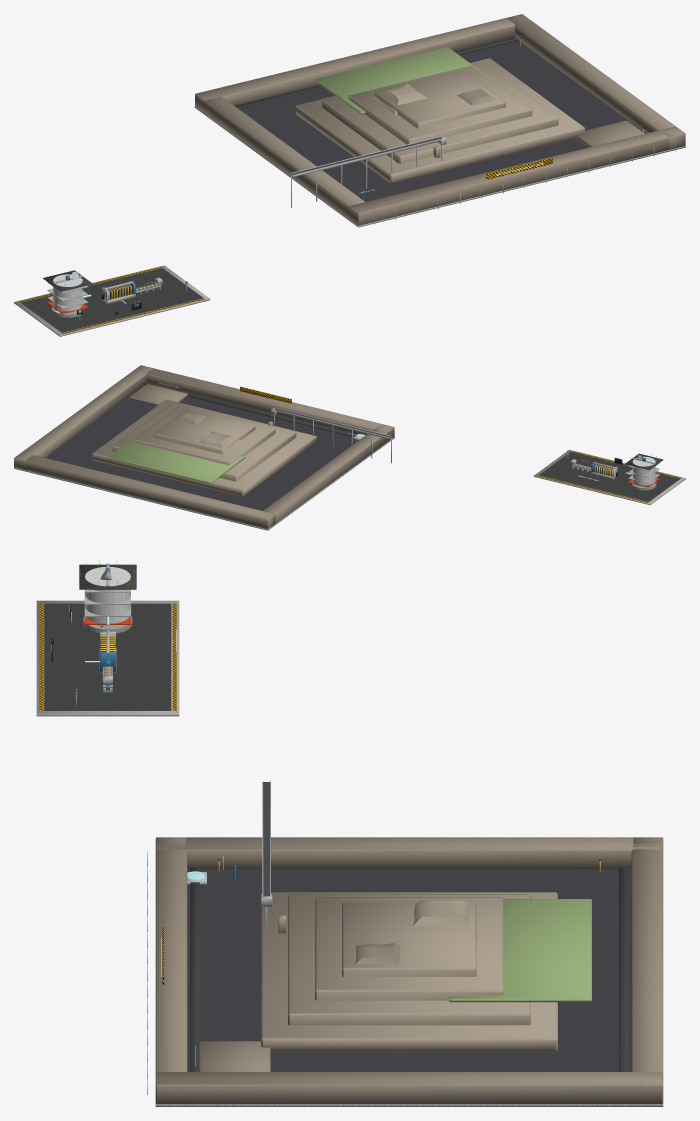
File: Tailing_DryStack_IndustrialUV_v2.fbx
3 views of the same model, one above another, from view 1: azimuth 30°, elevation 25°; view 2: azimuth 150°, elevation 25°; view 3: azimuth 270°, elevation 25° (orthographic). The views are drawn at different scales.
Visible parts, largest first — view 1: GDS_Geomembrane, GDS_Berm_S, DryStack_Pile_00, GDS_Berm_N, DryStack_Pile_01, GDS_Berm_E, GDS_Berm_W, GMC_PadEpoxy, DryStack_Pile_02, DryStack_SafeCover, DryStack_Pile_03, GMC_Pad (+5 smaller); view 2: GDS_Geomembrane, GDS_Berm_N, GDS_Berm_S, DryStack_Pile_00, GDS_Berm_E, GDS_Berm_W, GMC_PadEpoxy, DryStack_SafeCover, DryStack_Pile_02, DryStack_Pile_03, DryStack_Pile_01, GDS_PolishPond_Bund (+7 smaller); view 3: GDS_Geomembrane, GDS_Berm_E, GDS_Berm_W, DryStack_Pile_00, GMC_PadEpoxy, DryStack_Pile_01, DryStack_SafeCover, DryStack_Pile_02, GDS_Berm_N, DryStack_Pile_03, GDS_Berm_S, GMC_Pad (+8 smaller).
Boxes of the visible parts, left/top/right/bottom form: GDS_Geomembrane: left=239, top=40, right=645, bottom=201; GDS_Berm_S: left=348, top=126, right=685, bottom=225; DryStack_Pile_00: left=295, top=58, right=584, bottom=183; GDS_Berm_N: left=195, top=14, right=531, bottom=111; DryStack_Pile_01: left=322, top=61, right=558, bottom=163; GDS_Berm_E: left=506, top=14, right=685, bottom=149; GDS_Berm_W: left=195, top=91, right=374, bottom=225; GMC_PadEpoxy: left=21, top=268, right=202, bottom=332; DryStack_Pile_02: left=348, top=65, right=532, bottom=144; DryStack_SafeCover: left=315, top=47, right=493, bottom=114; DryStack_Pile_03: left=375, top=71, right=505, bottom=128; GMC_Pad: left=14, top=265, right=210, bottom=336; GDS_Geomembrane: left=45, top=386, right=358, bottom=510; GDS_Berm_N: left=14, top=454, right=275, bottom=529; GDS_Berm_S: left=134, top=365, right=394, bottom=441; DryStack_Pile_00: left=92, top=399, right=316, bottom=496; GDS_Berm_E: left=14, top=365, right=152, bottom=470; GDS_Berm_W: left=255, top=424, right=394, bottom=528; GMC_PadEpoxy: left=539, top=452, right=680, bottom=501; DryStack_SafeCover: left=107, top=431, right=245, bottom=483; DryStack_Pile_02: left=133, top=405, right=275, bottom=465; DryStack_Pile_03: left=153, top=409, right=255, bottom=453; DryStack_Pile_01: left=112, top=402, right=296, bottom=481; GDS_PolishPond_Bund: left=129, top=384, right=187, bottom=406; GDS_Geomembrane: left=187, top=869, right=631, bottom=1071; GDS_Berm_E: left=155, top=1072, right=663, bottom=1104; GDS_Berm_W: left=155, top=837, right=663, bottom=868; DryStack_Pile_00: left=261, top=892, right=557, bottom=1052; GMC_PadEpoxy: left=44, top=603, right=171, bottom=710; DryStack_Pile_01: left=288, top=894, right=530, bottom=1025; DryStack_SafeCover: left=449, top=899, right=591, bottom=1002; DryStack_Pile_02: left=315, top=897, right=503, bottom=1000; GDS_Berm_N: left=631, top=837, right=663, bottom=1104; DryStack_Pile_03: left=342, top=902, right=476, bottom=976; GDS_Berm_S: left=155, top=837, right=187, bottom=1104; GMC_Pad: left=36, top=600, right=179, bottom=716.
Size of the model in its own units: 150 by 9.27 by 79.
23 materials, 13 textured.
